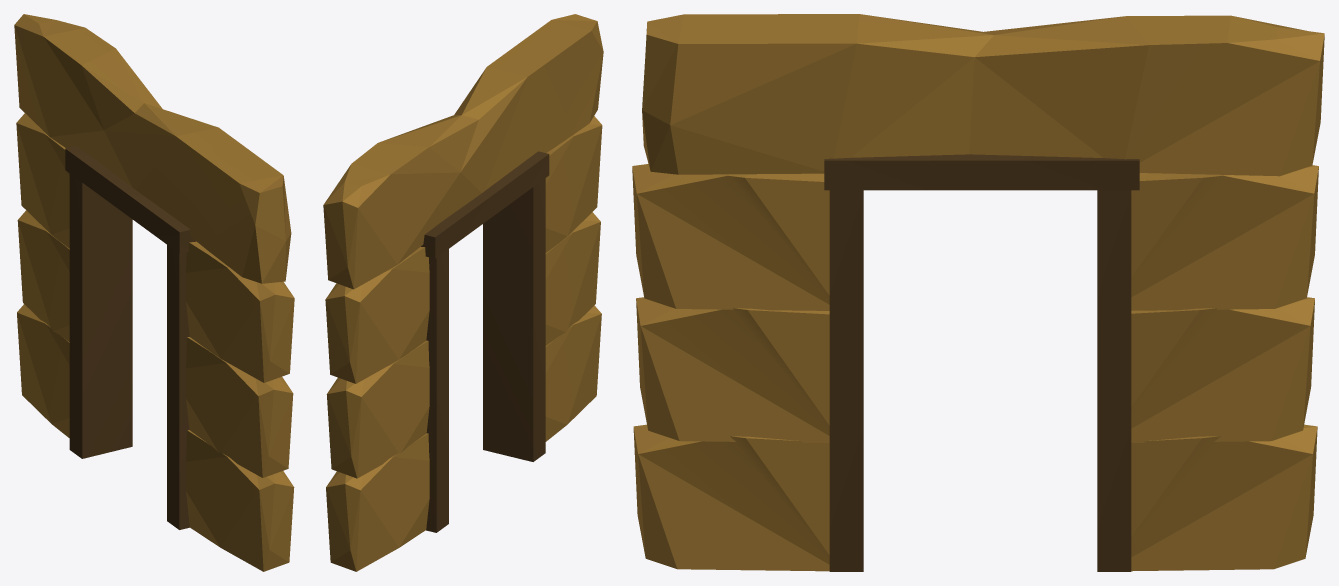
Rendered from Doorway.fbx.
The picture shows the model from 3 angles, left to right: view 1: azimuth 30°, elevation 25°; view 2: azimuth 150°, elevation 25°; view 3: azimuth 270°, elevation 25°; orthographic projection. The views are drawn at different scales.
Parts seen in each view (by area): view 1: WallDoor; view 2: WallDoor; view 3: WallDoor.
Part boxes in pixels (box(x1,y1,x2,y2)): WallDoor: box(14, 14, 294, 571); WallDoor: box(323, 14, 603, 571); WallDoor: box(632, 14, 1324, 571).
Size of the model in its own units: 58.73 by 388 by 460.
